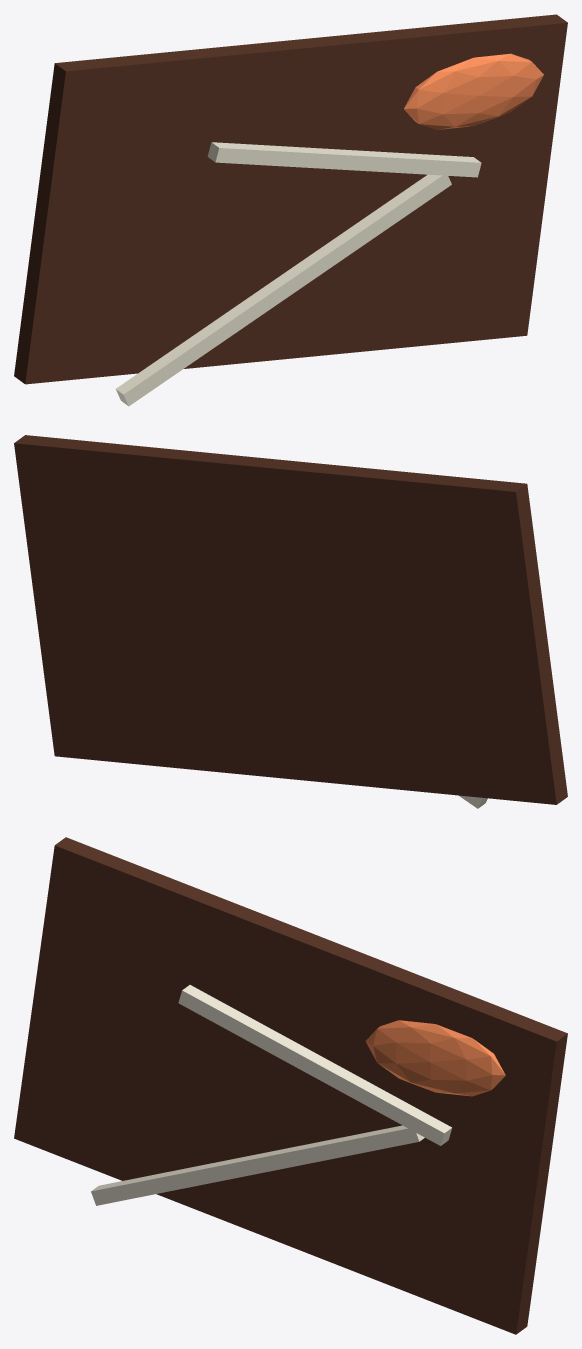
The model's file is 06_weathering_wear_overlay_6.glb.
3 renders of one model, top to bottom at view 1: azimuth 30°, elevation 25°; view 2: azimuth 150°, elevation 25°; view 3: azimuth 330°, elevation 25°, orthographic.
Visible parts, largest first — view 1: wear_plate, scratch_a, rust_or_moss_spot, scratch_b; view 2: wear_plate; view 3: wear_plate, rust_or_moss_spot, scratch_b, scratch_a.
Boxes of the visible parts, bbox=[...] form: wear_plate: bbox=[14, 14, 567, 384]; scratch_a: bbox=[116, 174, 451, 406]; rust_or_moss_spot: bbox=[404, 53, 543, 129]; scratch_b: bbox=[207, 142, 481, 177]; wear_plate: bbox=[14, 435, 567, 804]; wear_plate: bbox=[14, 837, 567, 1334]; rust_or_moss_spot: bbox=[365, 1020, 505, 1096]; scratch_b: bbox=[178, 985, 451, 1145]; scratch_a: bbox=[91, 1125, 424, 1205].
Bounding box in the file's own units: 1.39 × 0.9235 × 0.134.
